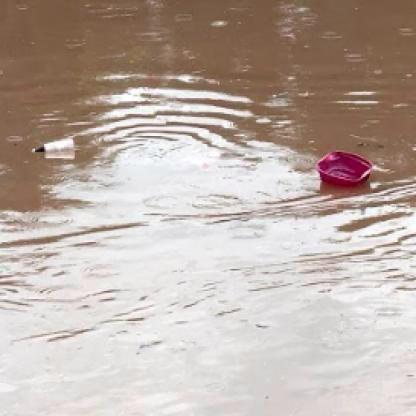Plastic: (320, 149, 373, 189), (28, 134, 80, 160)
